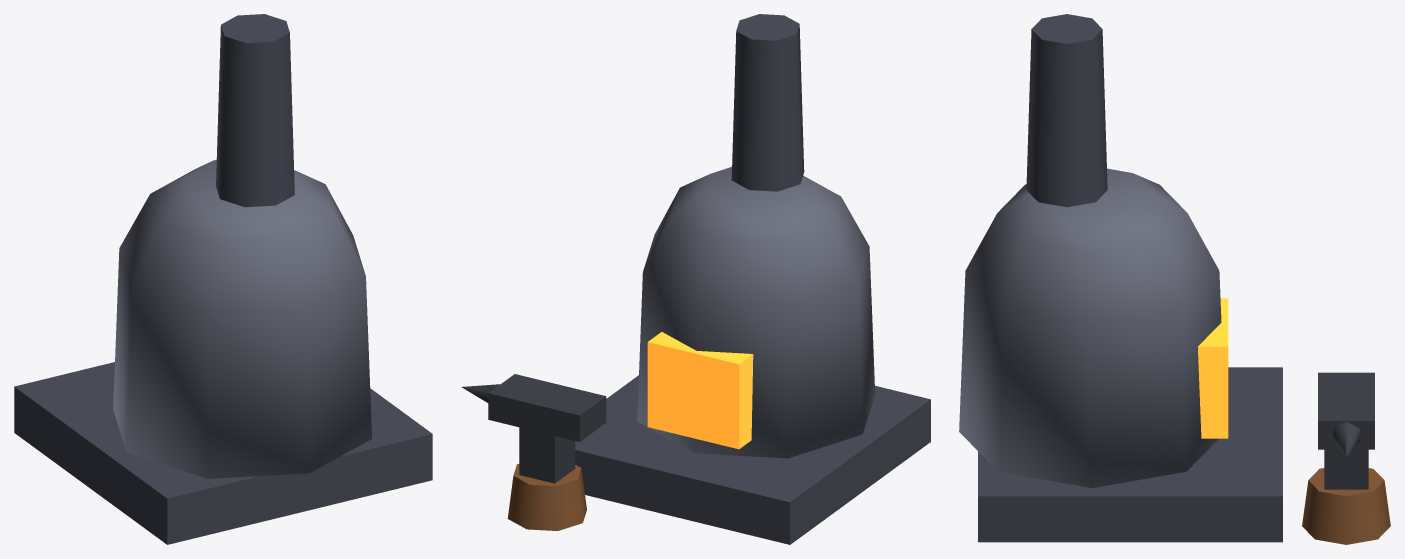
The model's file is forge1.glb.
The picture shows the model from 3 angles, left to right: view 1: azimuth 30°, elevation 25°; view 2: azimuth 150°, elevation 25°; view 3: azimuth 270°, elevation 25°; orthographic projection. The views are drawn at different scales.
Parts seen in each view (by area): view 1: Stone_6B6F7E, StoneDark_484B58; view 2: Stone_6B6F7E, StoneDark_484B58, Fire_FF8A2B, Metal_3C4048, Wood_8A5A34; view 3: Stone_6B6F7E, StoneDark_484B58, Metal_3C4048, Wood_8A5A34, Fire_FF8A2B.
Boxes of the visible parts, left/top/right/bottom form: Stone_6B6F7E: left=113, top=160, right=371, bottom=478; StoneDark_484B58: left=14, top=14, right=432, bottom=544; Stone_6B6F7E: left=637, top=167, right=875, bottom=458; StoneDark_484B58: left=575, top=14, right=930, bottom=544; Fire_FF8A2B: left=647, top=332, right=753, bottom=449; Metal_3C4048: left=461, top=374, right=606, bottom=483; Wood_8A5A34: left=507, top=464, right=586, bottom=530; Stone_6B6F7E: left=959, top=168, right=1221, bottom=488; StoneDark_484B58: left=978, top=14, right=1282, bottom=542; Metal_3C4048: left=1318, top=372, right=1374, bottom=489; Wood_8A5A34: left=1302, top=468, right=1390, bottom=544; Fire_FF8A2B: left=1198, top=298, right=1228, bottom=438.
Bounding box in the file's own units: 10.54 × 13.93 × 12.14.
